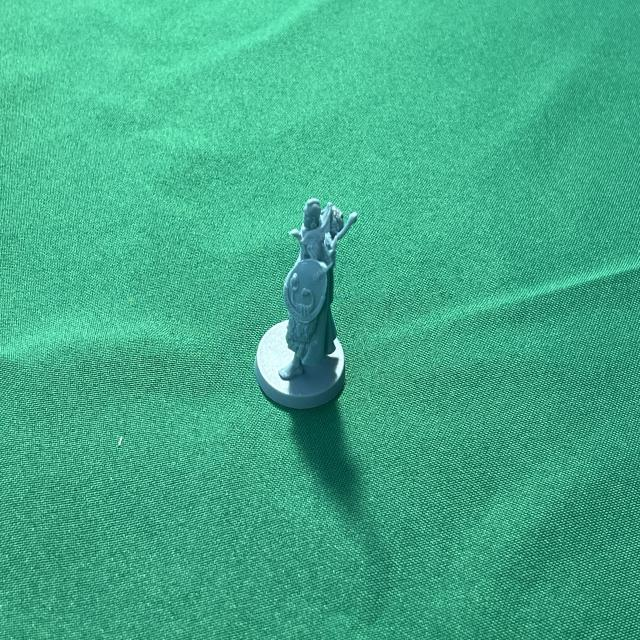isis_follower: (252, 192, 346, 414)
